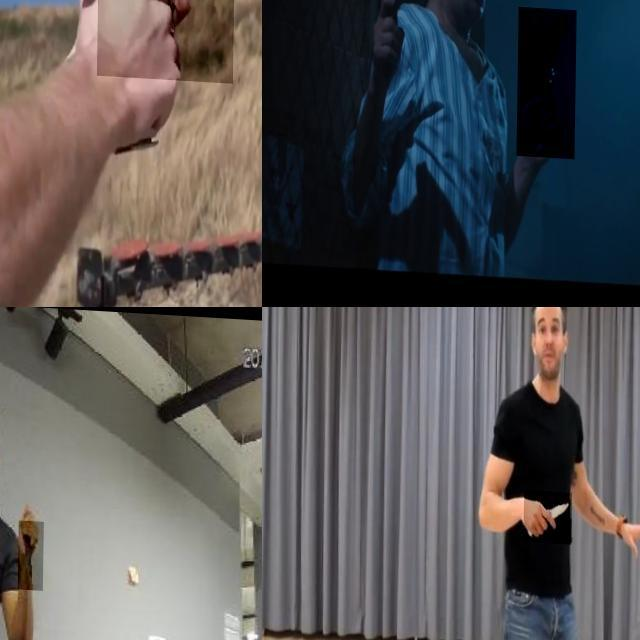-: (525, 486, 574, 540), (18, 517, 44, 587)
gun-knife-thesis - v11 Yolov5 augmented: (97, 0, 235, 87), (518, 1, 577, 152), (374, 0, 410, 80)
